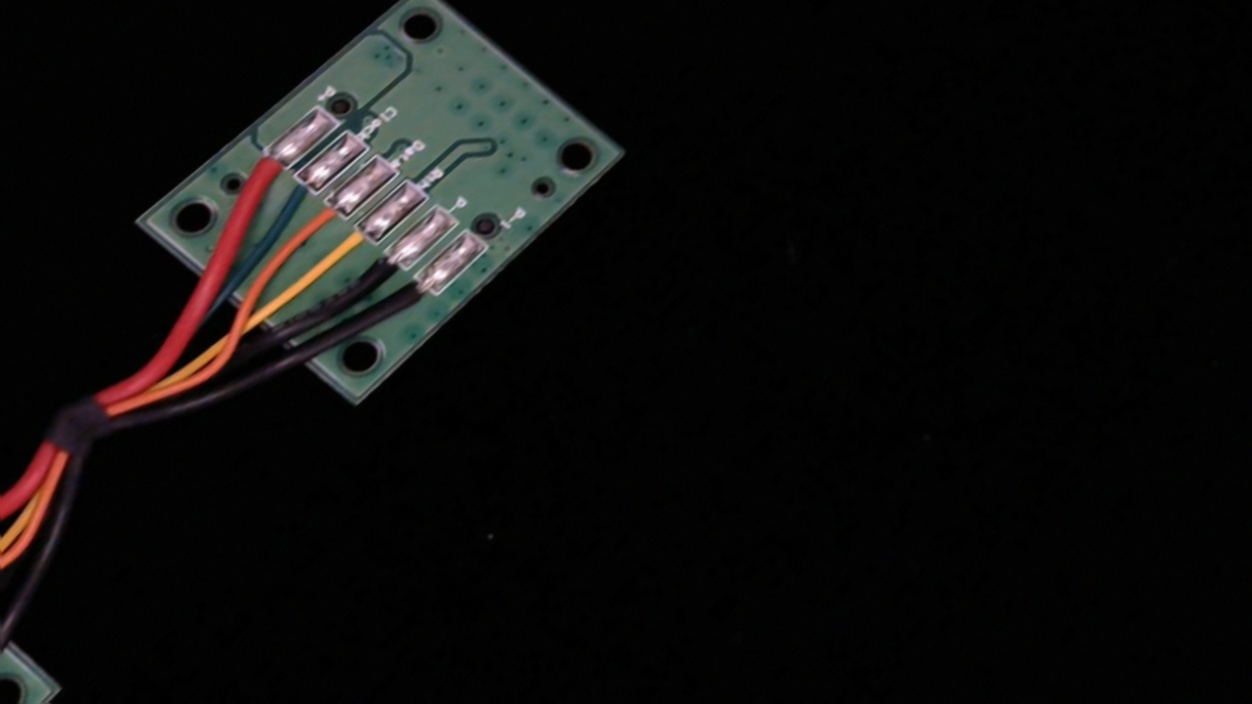Black: (337, 238, 422, 310)
Black1: (370, 263, 457, 338)
Green: (254, 161, 336, 228)
Orange: (273, 186, 365, 262)
Red: (226, 136, 306, 200)
Yellow: (301, 211, 396, 290)
